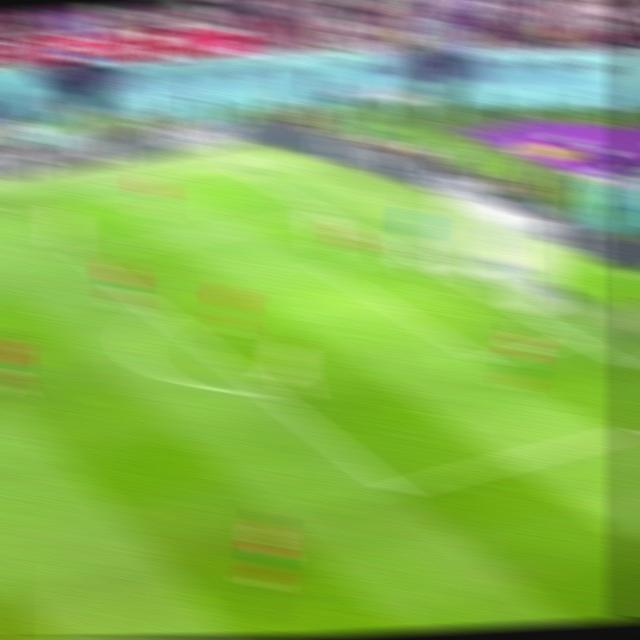bigarea_bottom_inner: (374, 473, 414, 504)
bigarea_top_inner: (64, 243, 97, 266)
bigarea_top_outter: (310, 206, 341, 224)
bottom_arc_area_intersection: (250, 380, 284, 403)
corner: (220, 160, 255, 179)
smallarea_bottom_inner: (466, 345, 503, 374)
smallarea_bottom_outter: (559, 327, 594, 351)
smallarea_top_inner: (308, 256, 341, 279)
smallarea_top_outter: (388, 241, 419, 263)
top_arc_area_intersection: (141, 298, 176, 324)
